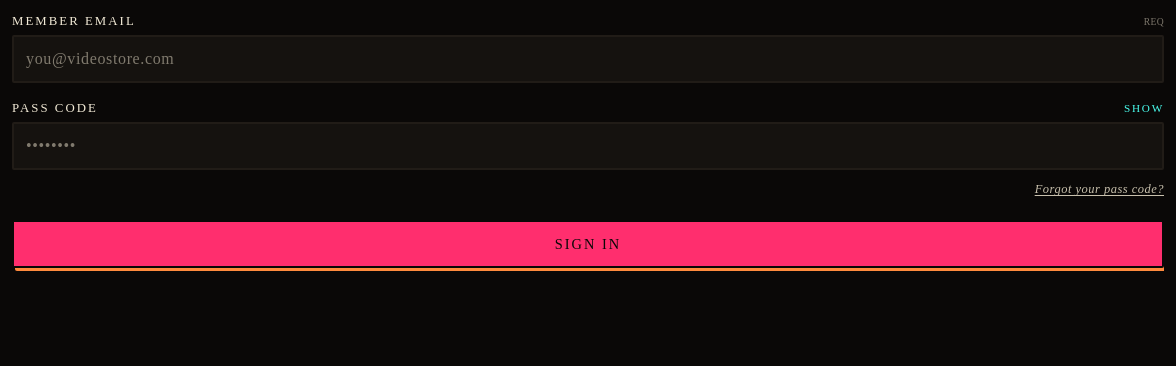
Test: LoginForm › should display an error banner with the action's error message
Type "wrong@example.com" into the field labelled "Member email REQ".
click(588, 59); type("wrong@example.com")  # box [12, 35, 1164, 83]
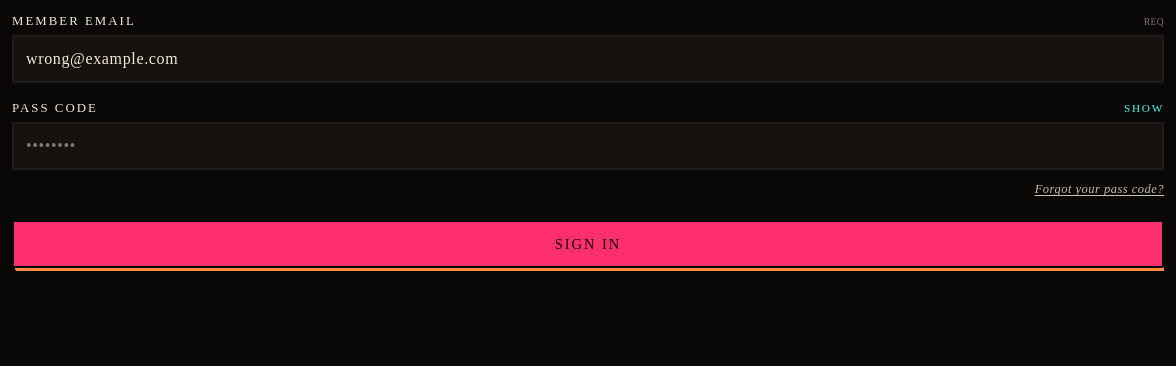
Type "wrongpassword" into the password field labelled "Pass code".
click(588, 146); type("wrongpassword")  # box [12, 122, 1164, 170]
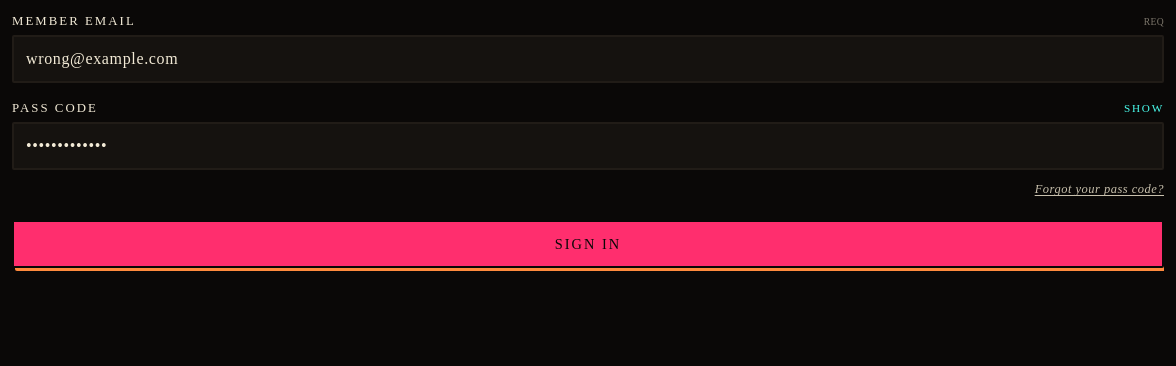
Click the button "Sign in".
click(588, 244)  # box [12, 220, 1164, 268]
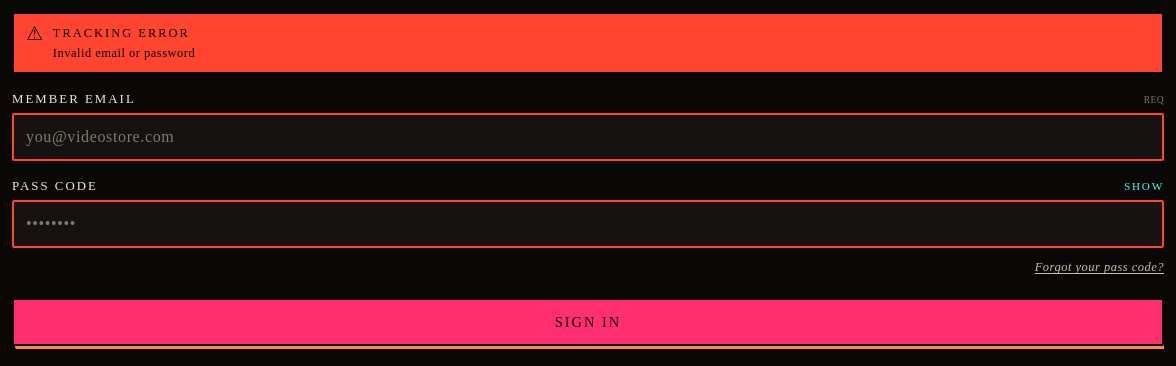
Check: the message shows "Tracking error", box [53, 26, 190, 40]
Check: the message shows "Invalid email or password", box [53, 46, 195, 60]
